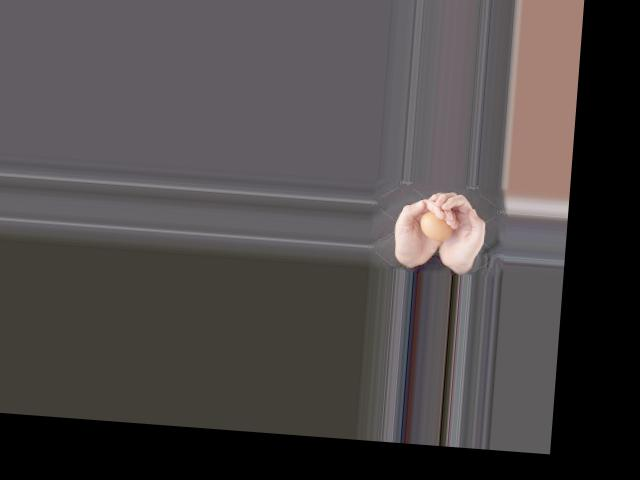egg: (419, 211, 455, 242)
